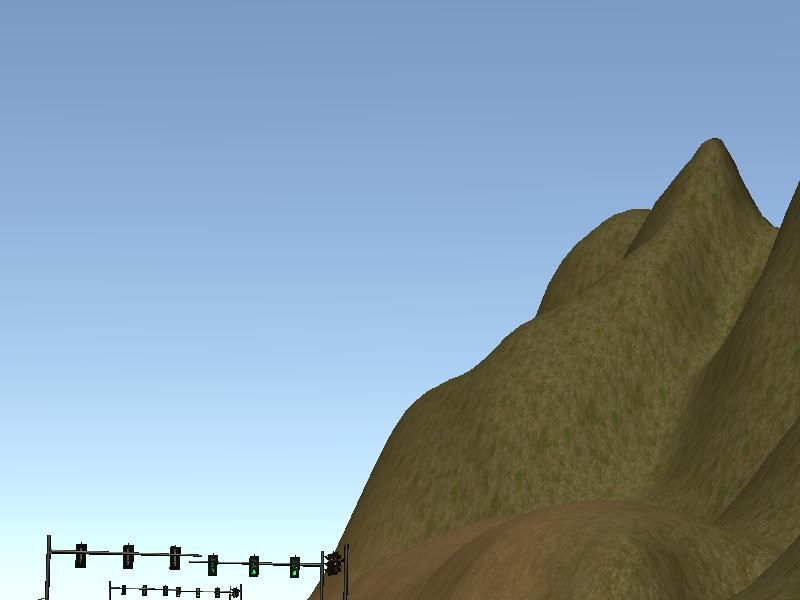Green: (208, 555, 218, 575), (249, 555, 258, 577), (290, 557, 299, 579)
